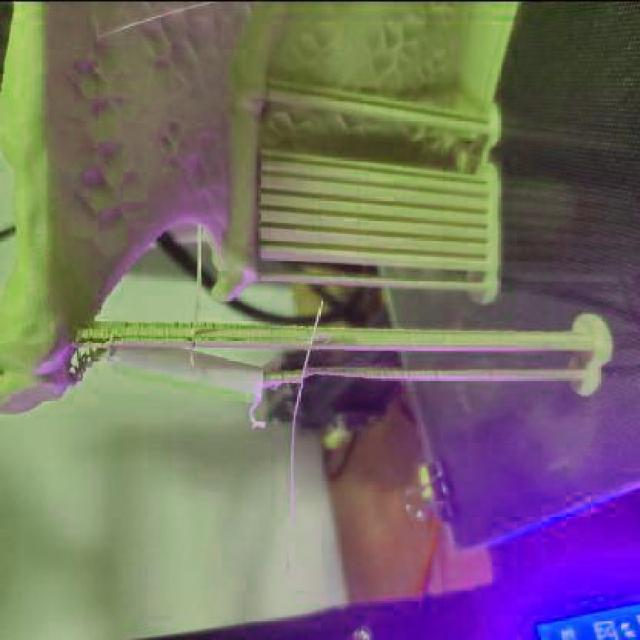Spaghetti: (287, 294, 325, 500), (186, 220, 205, 368), (61, 338, 108, 385)
